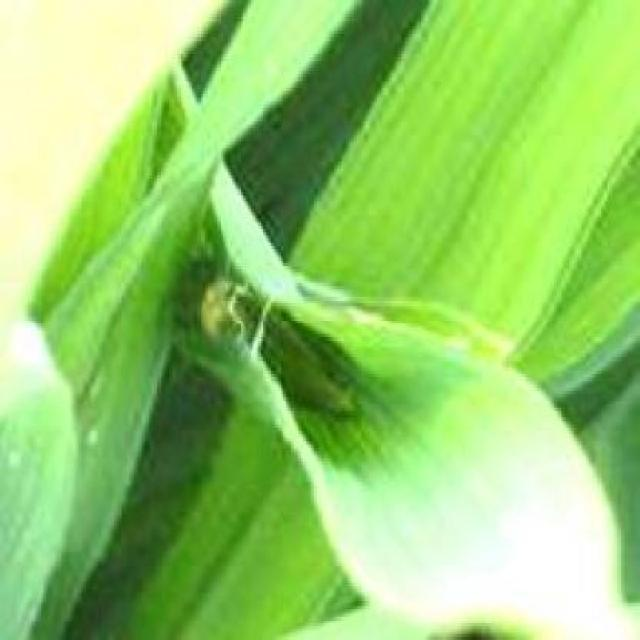leaf-folder: (192, 230, 368, 448)
